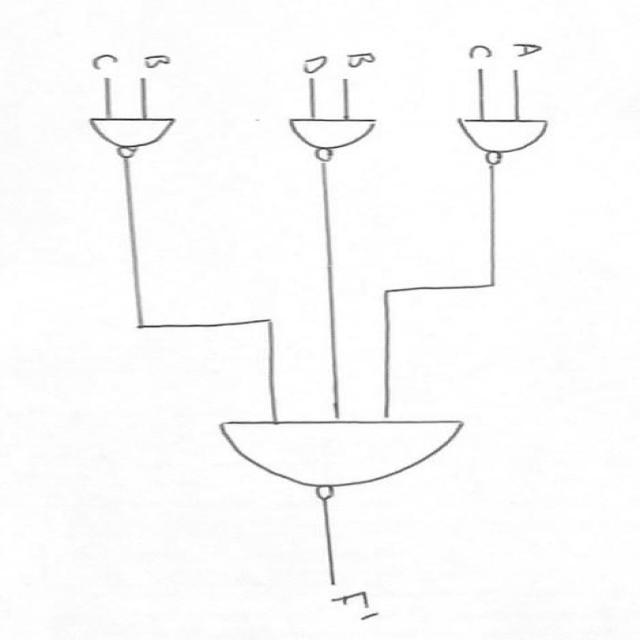NAND: (183, 400, 492, 510), (438, 108, 575, 175), (261, 106, 397, 165), (78, 109, 197, 166)
